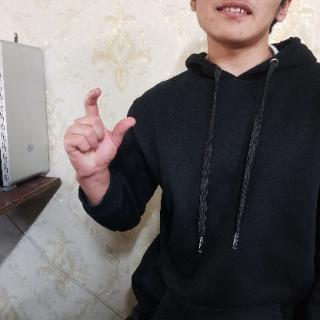NOON: (63, 85, 139, 186)
